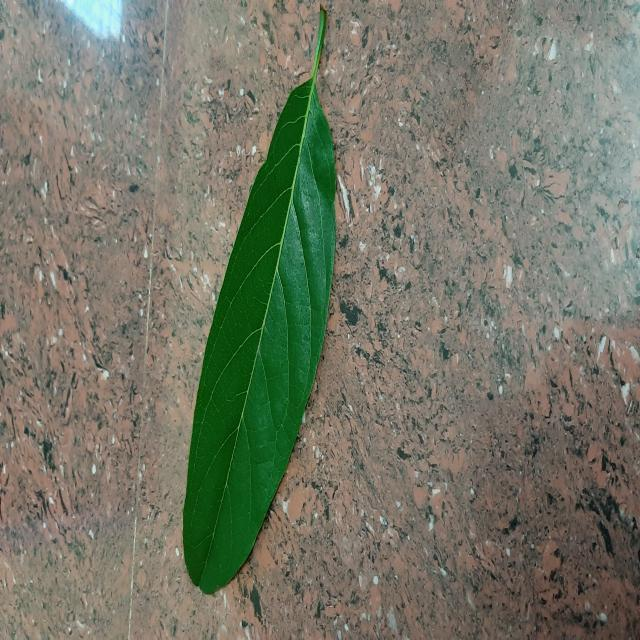leaf: (181, 7, 337, 594)
